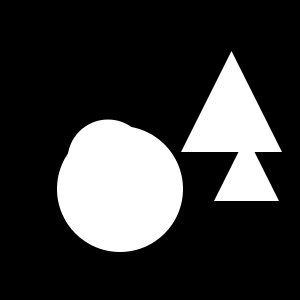rectangle: (57, 126, 183, 252), (68, 120, 148, 200)
triangle: (181, 51, 282, 152), (214, 136, 279, 201), (65, 125, 118, 178)
